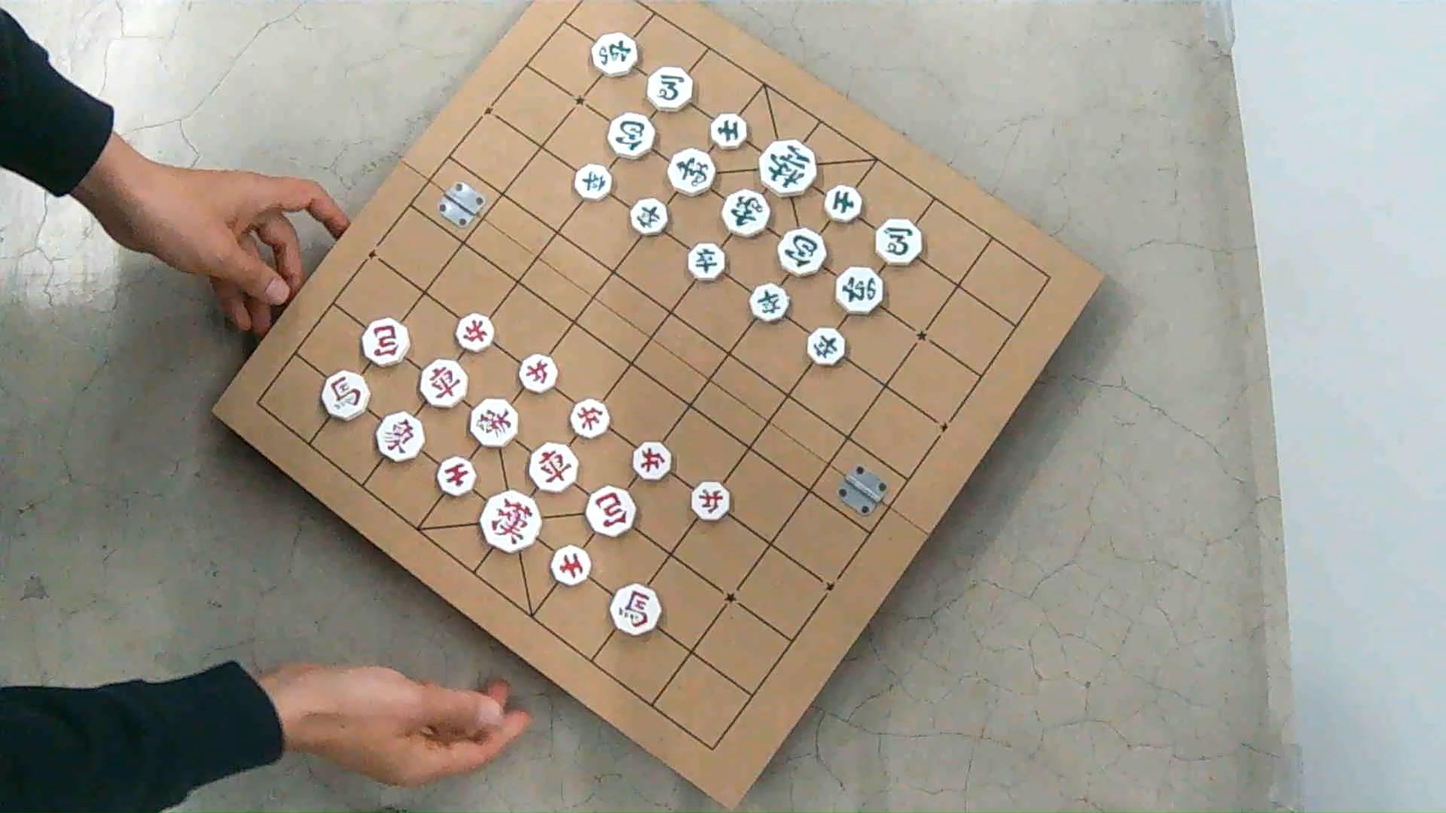cha_green: (835, 266, 885, 314), (592, 32, 639, 76)
cha_red: (529, 443, 578, 492), (420, 359, 467, 408)
jol_green: (807, 327, 846, 365), (688, 243, 726, 281), (750, 284, 789, 321), (630, 198, 668, 235), (574, 164, 612, 200)
jol_red: (690, 481, 731, 520), (456, 312, 495, 352), (570, 399, 610, 438), (631, 442, 672, 480), (519, 354, 558, 393)
ma_green: (875, 218, 923, 265), (646, 66, 693, 111)
ma_red: (610, 583, 660, 635), (321, 370, 368, 420)
po_green: (778, 227, 825, 276), (608, 112, 654, 158)
po_red: (587, 486, 636, 536), (362, 318, 410, 367)
sa_green: (824, 185, 862, 222), (710, 112, 747, 149)
sa_red: (551, 545, 590, 586), (437, 455, 474, 496)
sang_green: (722, 189, 770, 237), (668, 148, 715, 196)
sang_red: (375, 412, 423, 461), (469, 398, 517, 446)
wang_green: (758, 139, 816, 196)
wang_red: (481, 490, 541, 553)
